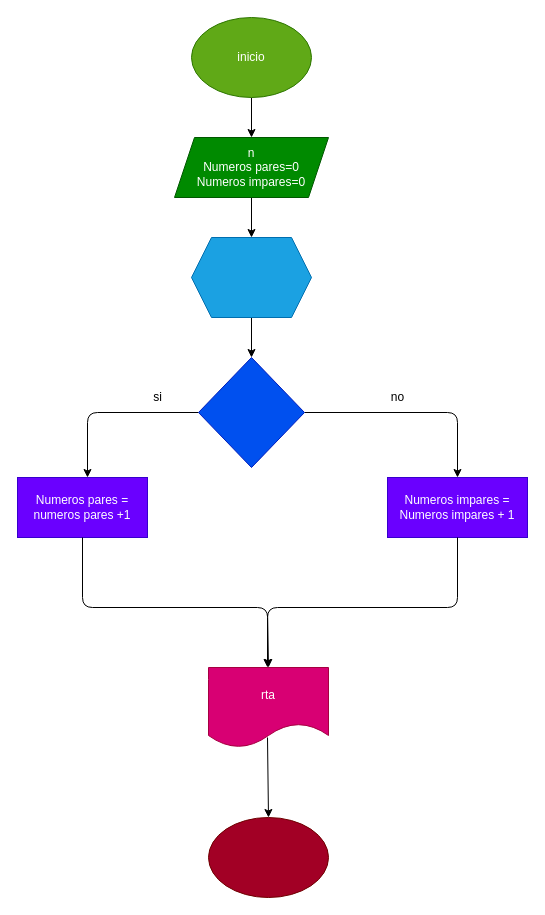
This 545x915 diagram has some shape labels left out. The shapes that lost their labels are listed below. From the top down, each one's centre as x and y in pixels, then its label:
the point at 251,277: for i in range(1,n+1)
the point at 251,412: i%2 = 0
the point at 268,857: fin
